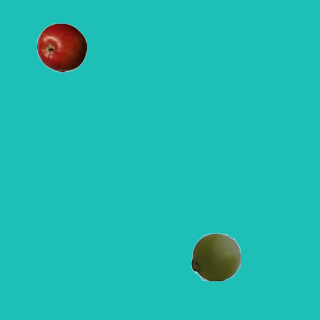Apple Braeburn: (36, 22, 86, 72)
Grape White 4: (190, 231, 240, 281)
